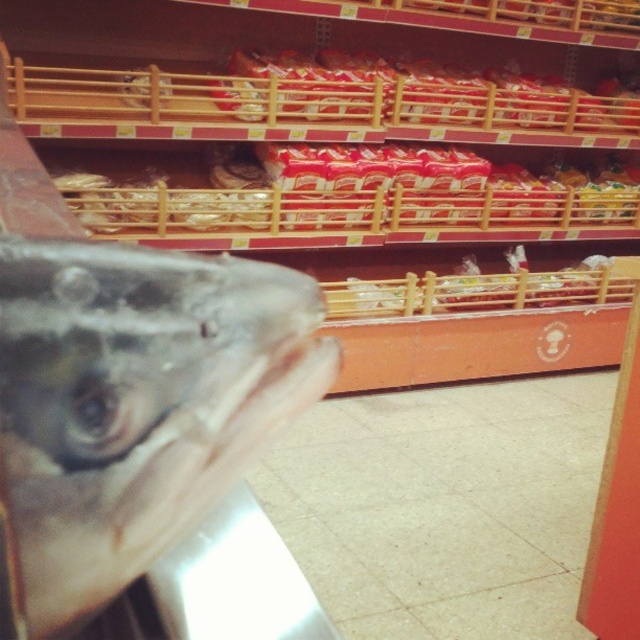Fish: (0, 233, 343, 639)
